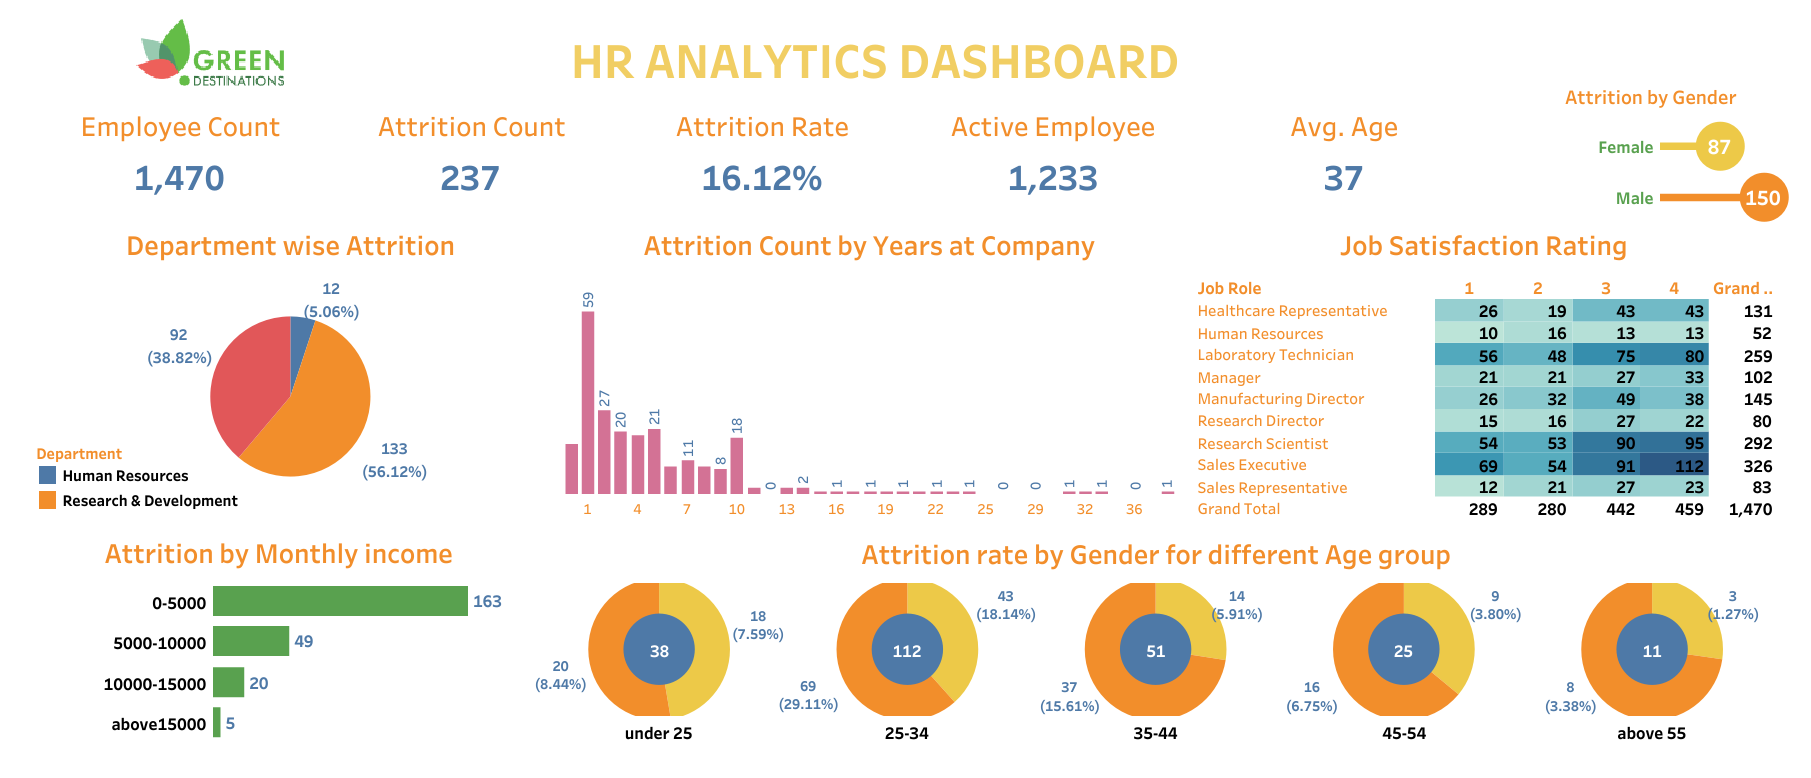

The dashboard page shown, as its layout file describes it:
{"tool":"tableau","page":{"name":"Dashboard 1","canvas":[1000,1000],"units":"permille","ordinal":0},"visuals":[{"type":"image","param":"Image/greendestination+logo.png","box":[44.1,24.7,143.5,86.9]},{"type":"text","box":[313.1,38.7,491.7,71.6]},{"type":"worksheet","title":"Attrition by Gender","mark":"Automatic","rows":["Gender"],"cols":["Calculation_471752062432030720","Calculation_471752062432030720"],"box":[860.6,96,128.7,190.4]},{"type":"worksheet","title":"KPI","mark":"Automatic","box":[19,120.1,802.7,149.2]},{"type":"worksheet","title":"Department wise Attrition","mark":"Pie","box":[20,280.5,280.7,385]},{"type":"worksheet","title":"Attrition Count by Years at Company","mark":"Automatic","rows":["Calculation_471752062432030720"],"cols":["YearsAtCompany"],"box":[310.3,280.5,339.3,385]},{"type":"worksheet","title":"Job Satisfaction Rating","mark":"Square","rows":["JobRole"],"cols":["JobSatisfaction"],"box":[656.6,281.7,324.1,385]},{"type":"legend","title":"Department wise Attrition","param":"[federated.0734ldy1kzpvdy126uz381tyyk2u].[none:Department:nk]","box":[19.3,563.4,140,99.8]},{"type":"worksheet","title":"Attrition by Monthly income","mark":"Automatic","rows":["Calculation_1031605791416709120"],"cols":["Calculation_471752062432030720"],"box":[20.7,676.1,266.2,278.2]},{"type":"worksheet","title":"Attrition rate by Gender for different Age group","mark":"Pie","rows":["Calculation_1031605791458742275","Calculation_1031605791458742275"],"cols":["Calculation_1031605791457067009"],"box":[295.2,677.2,685.5,278.2]}]}

Visuals, with their boxes on the dashboard's canvas, which has no fixed pixel size, in thousandths of its width and height (x1, y1, x2, y2). These are canvas units, not pixel positions in the 1811x778 screenshot, which may show the page scaled, cropped or inside an application window:
image: locate(44, 25, 188, 112)
text: locate(313, 39, 805, 110)
"Attrition by Gender" worksheet: locate(861, 96, 989, 286)
"KPI" worksheet: locate(19, 120, 822, 269)
"Department wise Attrition" worksheet (Pie marks): locate(20, 280, 301, 666)
"Attrition Count by Years at Company" worksheet: locate(310, 280, 650, 666)
"Job Satisfaction Rating" worksheet (Square marks): locate(657, 282, 981, 667)
"Department wise Attrition" legend: locate(19, 563, 159, 663)
"Attrition by Monthly income" worksheet: locate(21, 676, 287, 954)
"Attrition rate by Gender for different Age group" worksheet (Pie marks): locate(295, 677, 981, 955)
